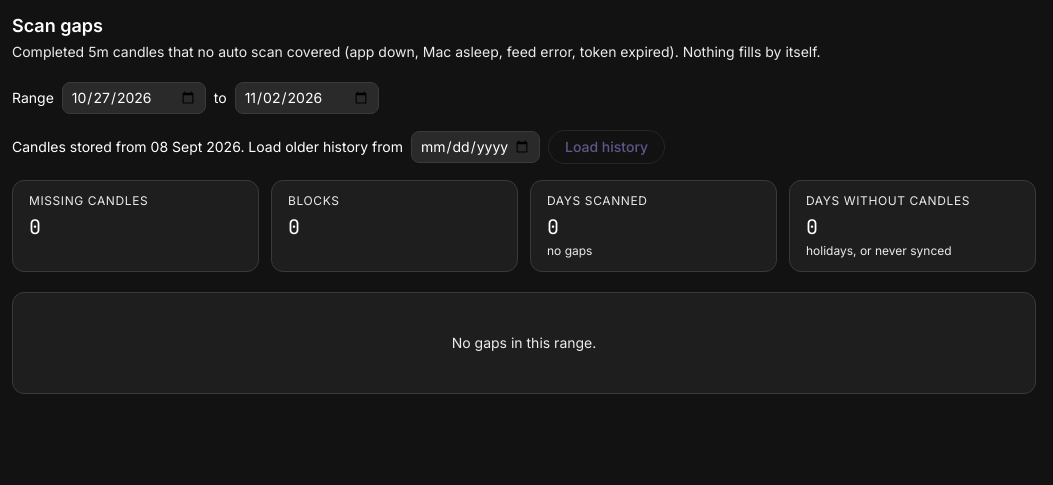
Test case: loads older history and jumps to that range
In the date field named "History from": (476, 147) [411,131,540,163], type "2026-08-03"
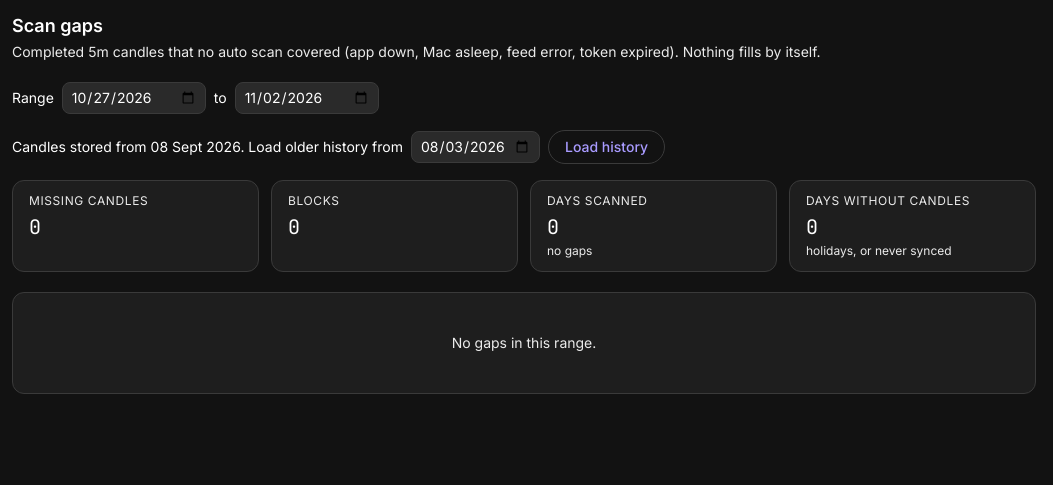
Click the button "Load history": click(607, 147) [548,130,665,164]
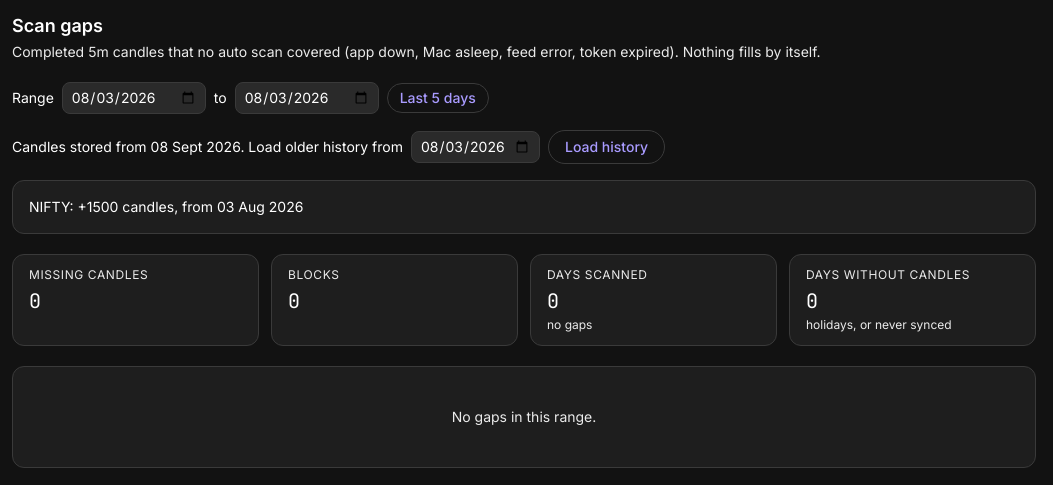
Check: the text "NIFTY: +1500 candles, from 03 Aug 2026" is shown, box [12,180,1036,234]
